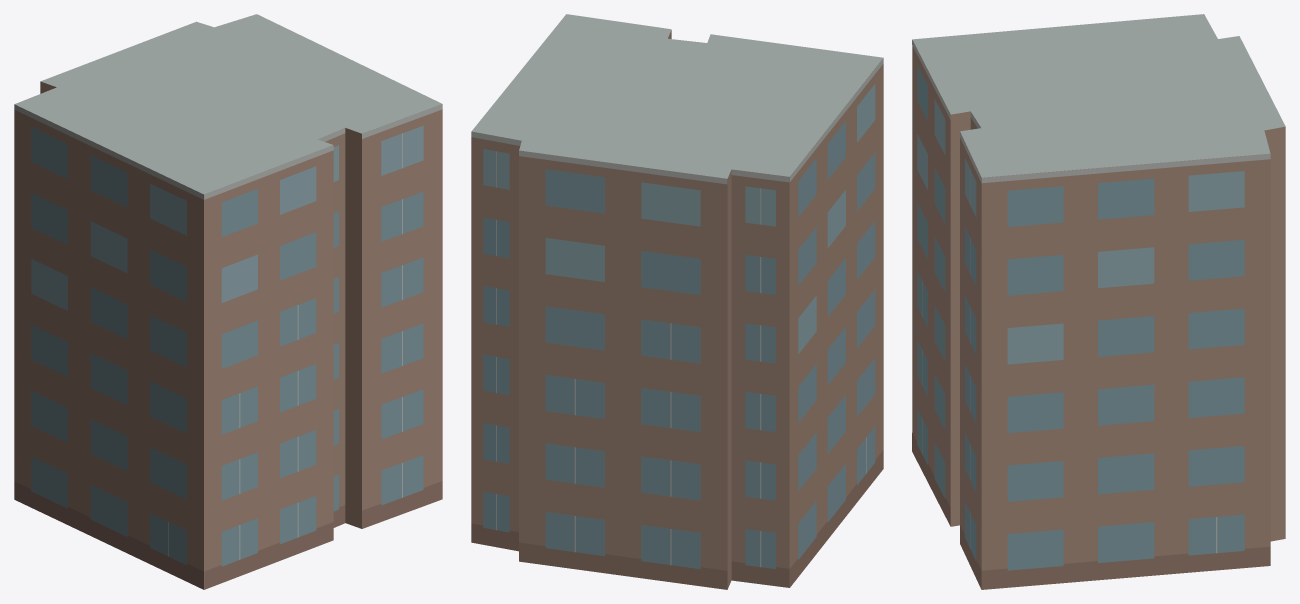
File: survey-upis-32993894.glb
3 renders of one model, left to right at view 1: azimuth 30°, elevation 25°; view 2: azimuth 150°, elevation 25°; view 3: azimuth 270°, elevation 25°, orthographic. The views are drawn at different scales.
Parts seen in each view (by area): view 1: survey-upis-32993894.tmp; view 2: survey-upis-32993894.tmp; view 3: survey-upis-32993894.tmp.
Boxes of the visible parts, bbox=[...] form: survey-upis-32993894.tmp: bbox=[14, 14, 442, 589]; survey-upis-32993894.tmp: bbox=[471, 14, 883, 589]; survey-upis-32993894.tmp: bbox=[912, 14, 1285, 589].
Bounding box in the file's own units: 15.25 × 17.9 × 14.71.
